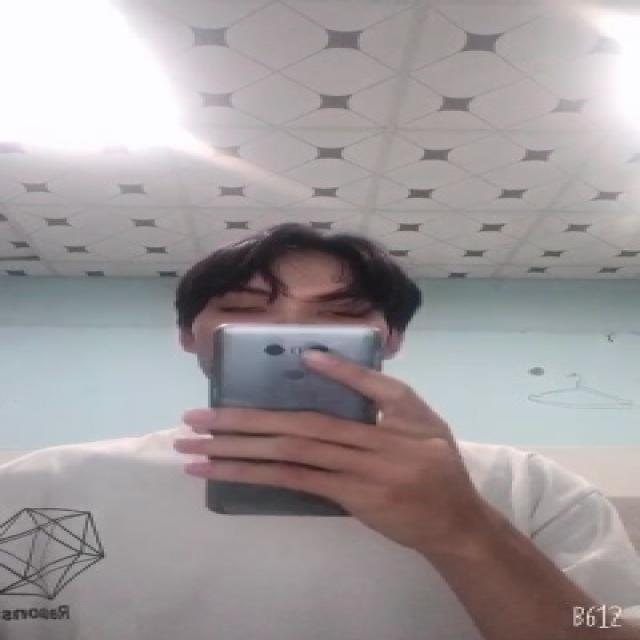Phone: (208, 320, 383, 519)
